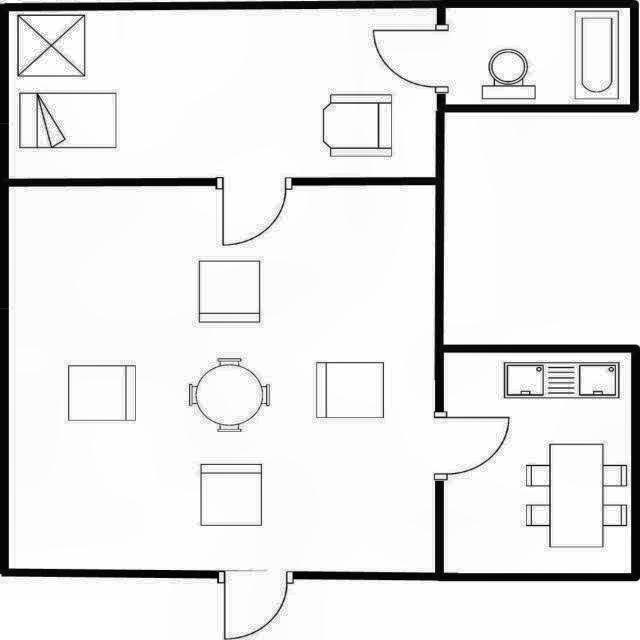room: (8, 184, 436, 573), (8, 8, 437, 179), (444, 353, 631, 573), (446, 8, 630, 105)
